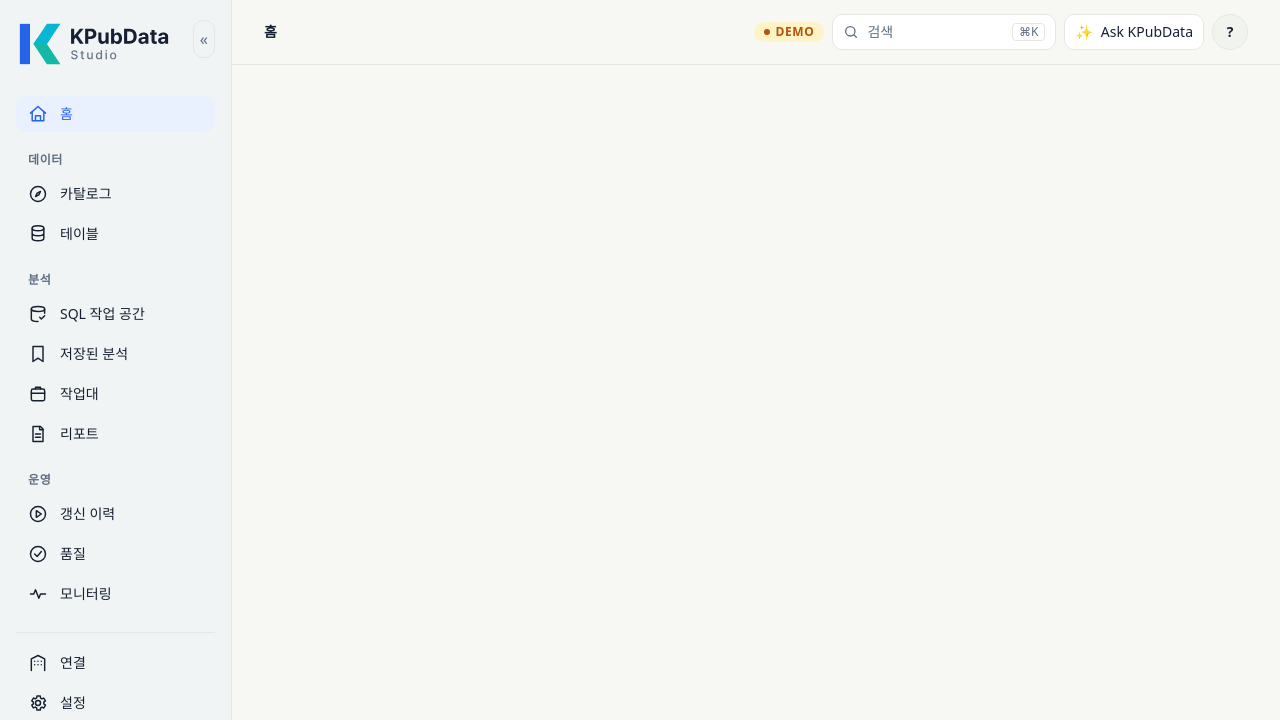
Test case: account menu (#523) › closes on Escape and returns focus to the avatar
Click the button named "계정 메뉴" at x=1230, y=32, box [1212,14,1248,50]
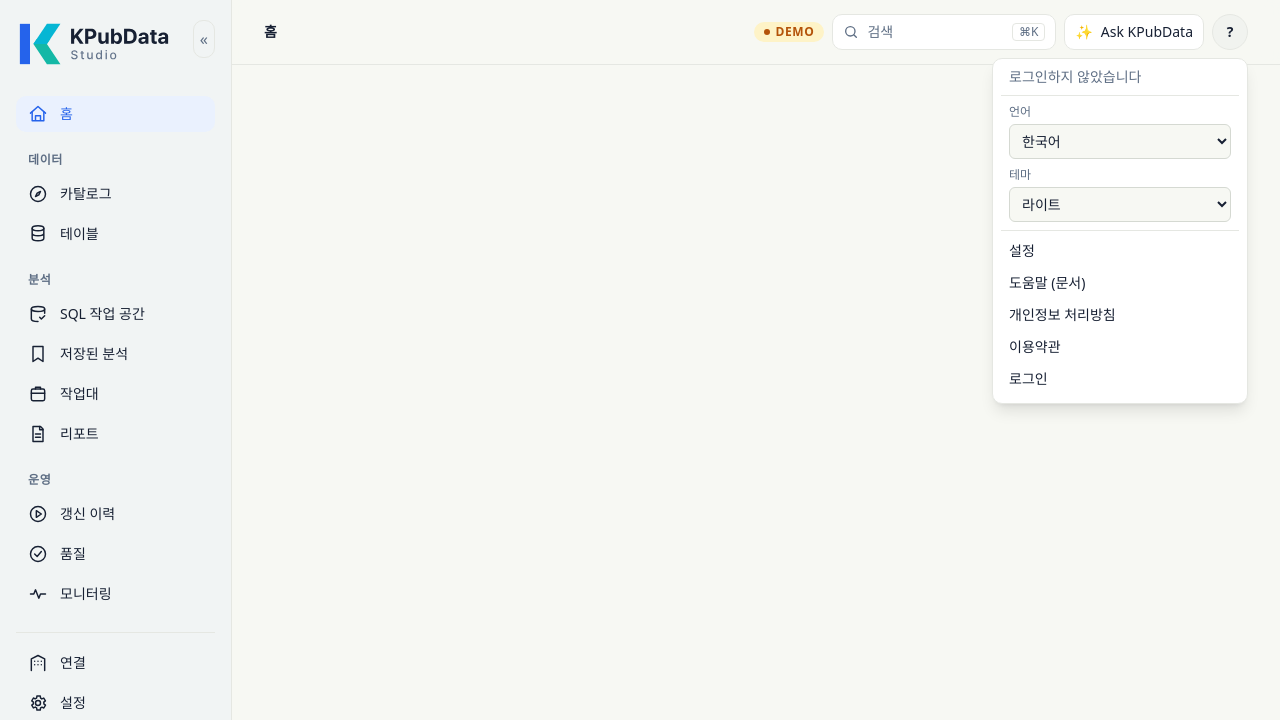
Press Escape
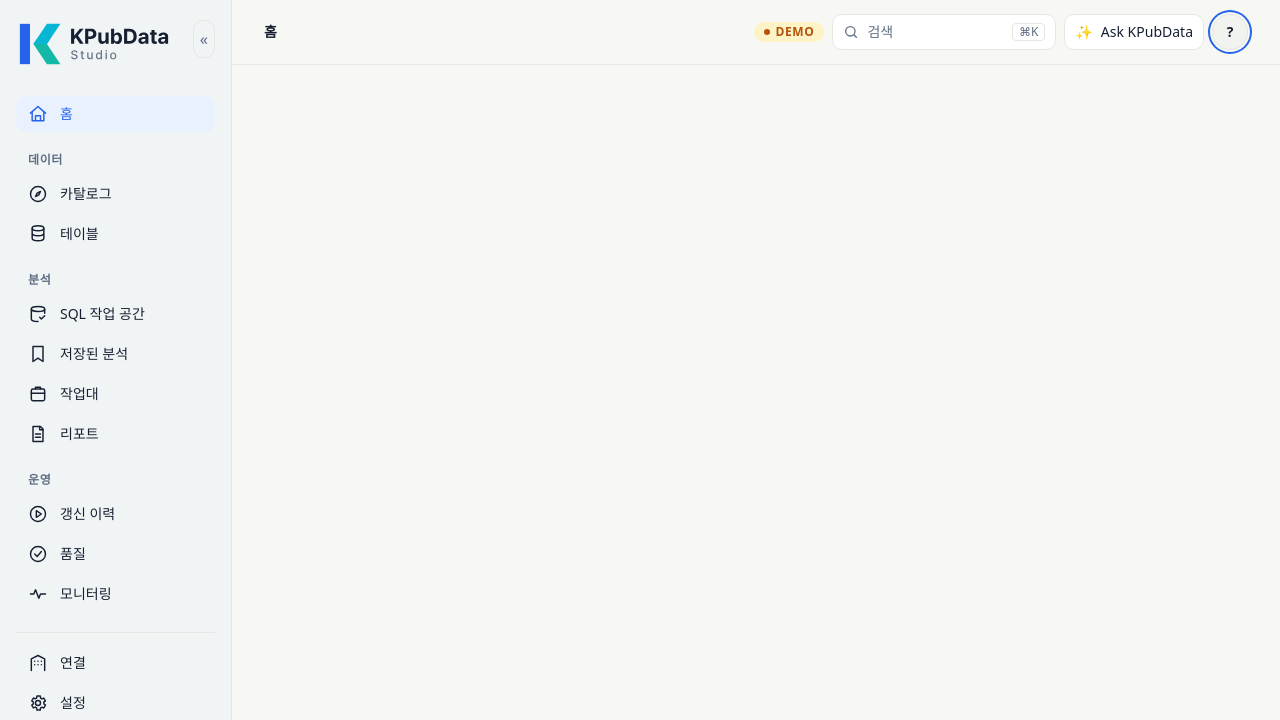
Expected: the dialog "계정" is gone
